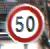Speed Limit -50-: (0, 0, 49, 48)
